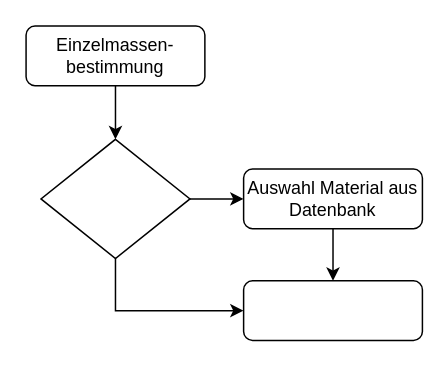
Some shapes in this 448 by 367 pixel diagram are drawn without their labels. The centre of each missing label's shape, as x and y in pixels:
"Berechnung aus Material, Parameter" goes at (332,309).
"Lastfall?" goes at (114,198).
